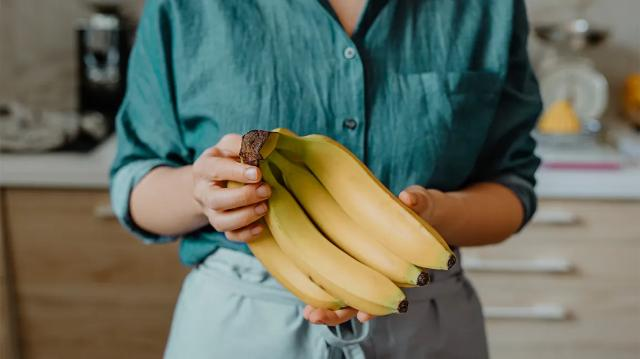Bananas: (232, 128, 458, 316)
